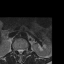CCS_normal: (19, 47, 21, 56)
LFS_stenosis: (23, 47, 25, 52)
LLS_normal: (21, 47, 23, 54)
RFS_stenosis: (15, 47, 17, 52)
RLS_normal: (17, 47, 19, 54)
